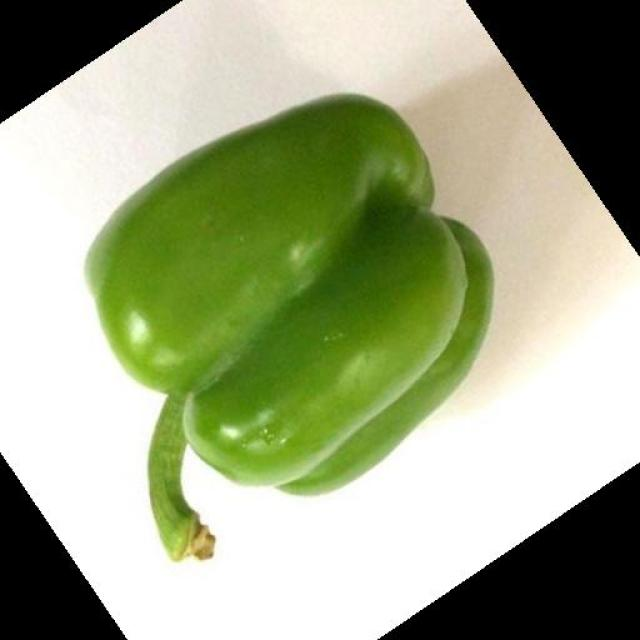Fresh_Capsicum: (93, 115, 496, 522)
